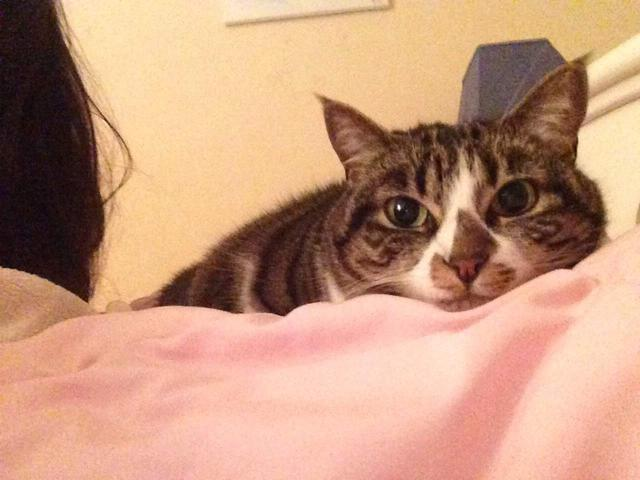playdoh: (138, 47, 607, 315)
